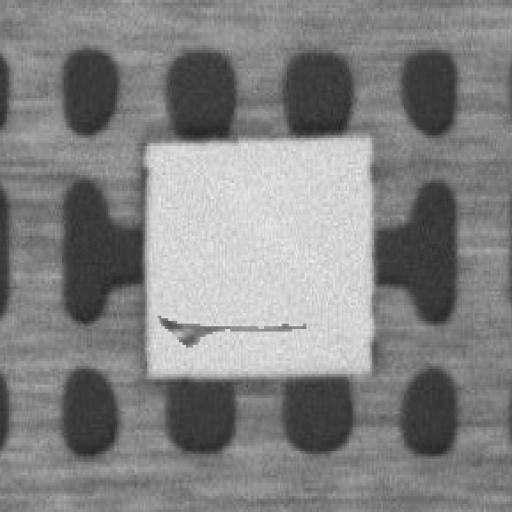DIE_INK: (220, 204, 456, 234)
